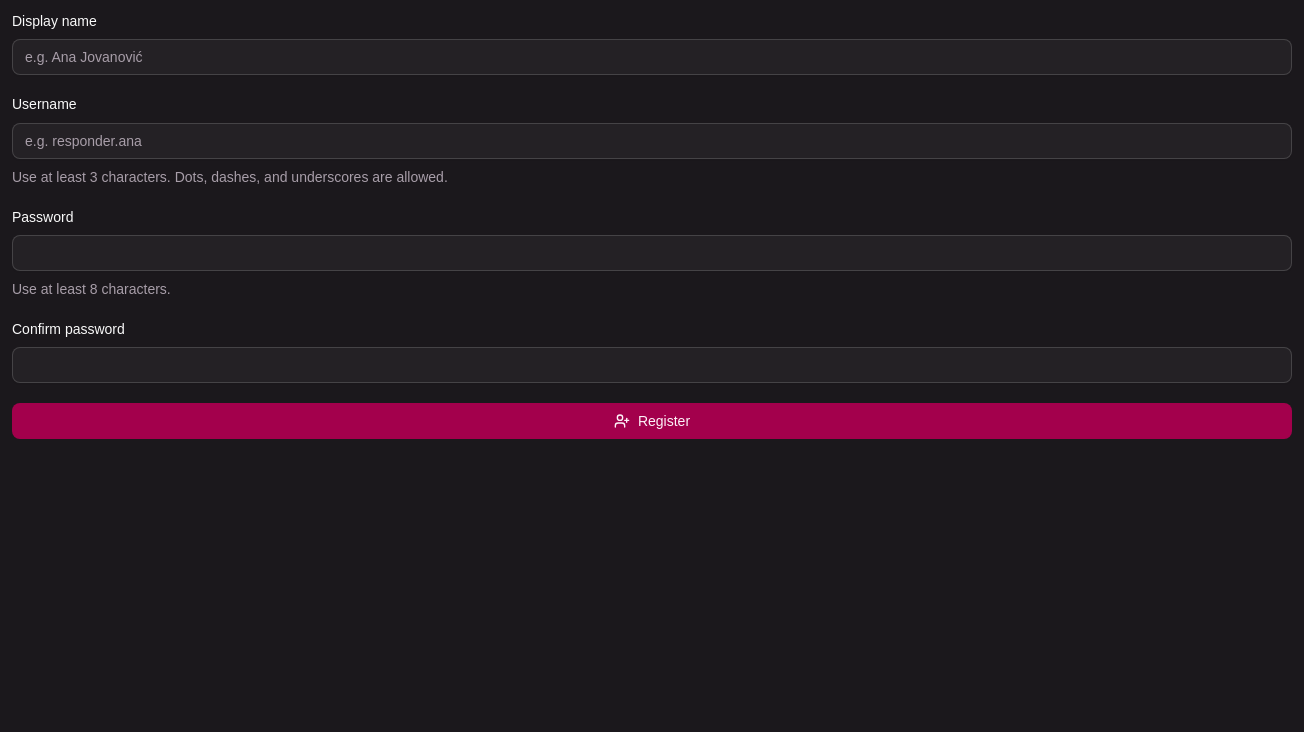
it: RegisterForm › maps server field errors and preserves entered values
Type " New Engineer " into the field labelled "Display name" at {"x": 652, "y": 57}, box [12, 39, 1292, 75]
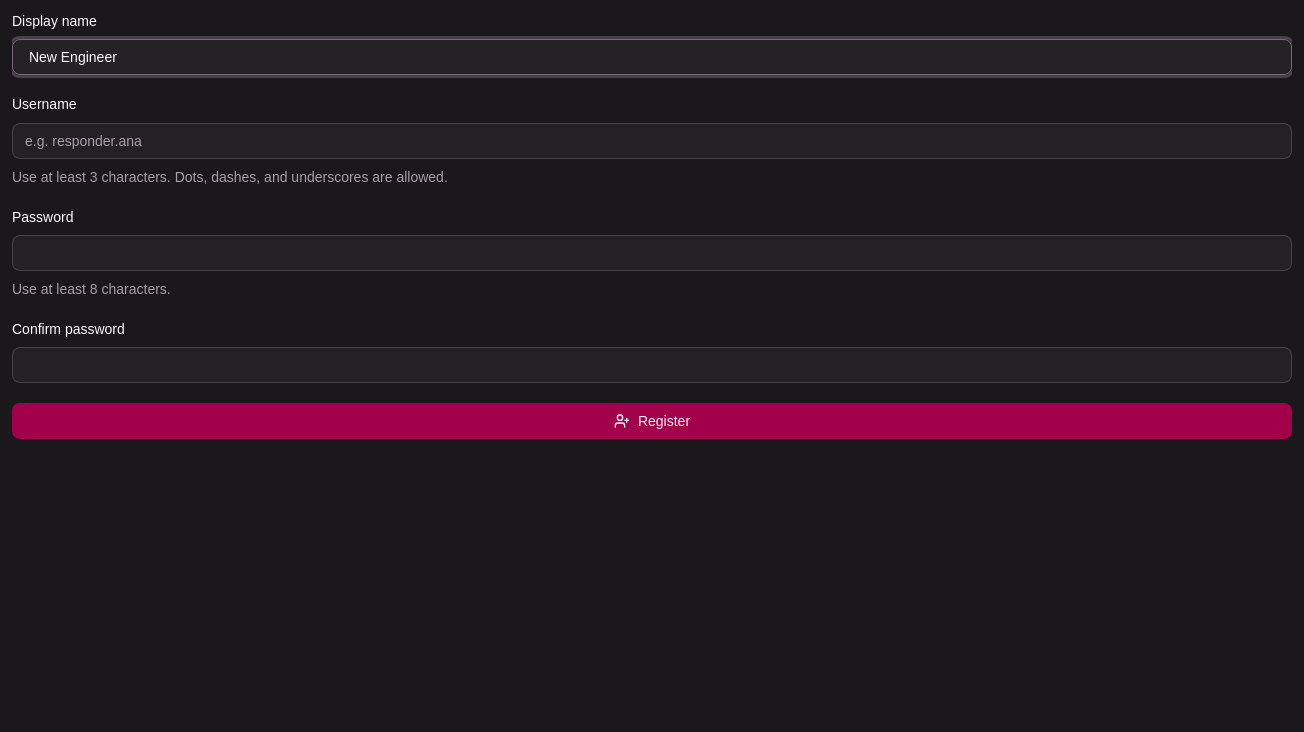
Type " New.Responder " into the field labelled "Username" at {"x": 652, "y": 140}, box [12, 122, 1292, 158]
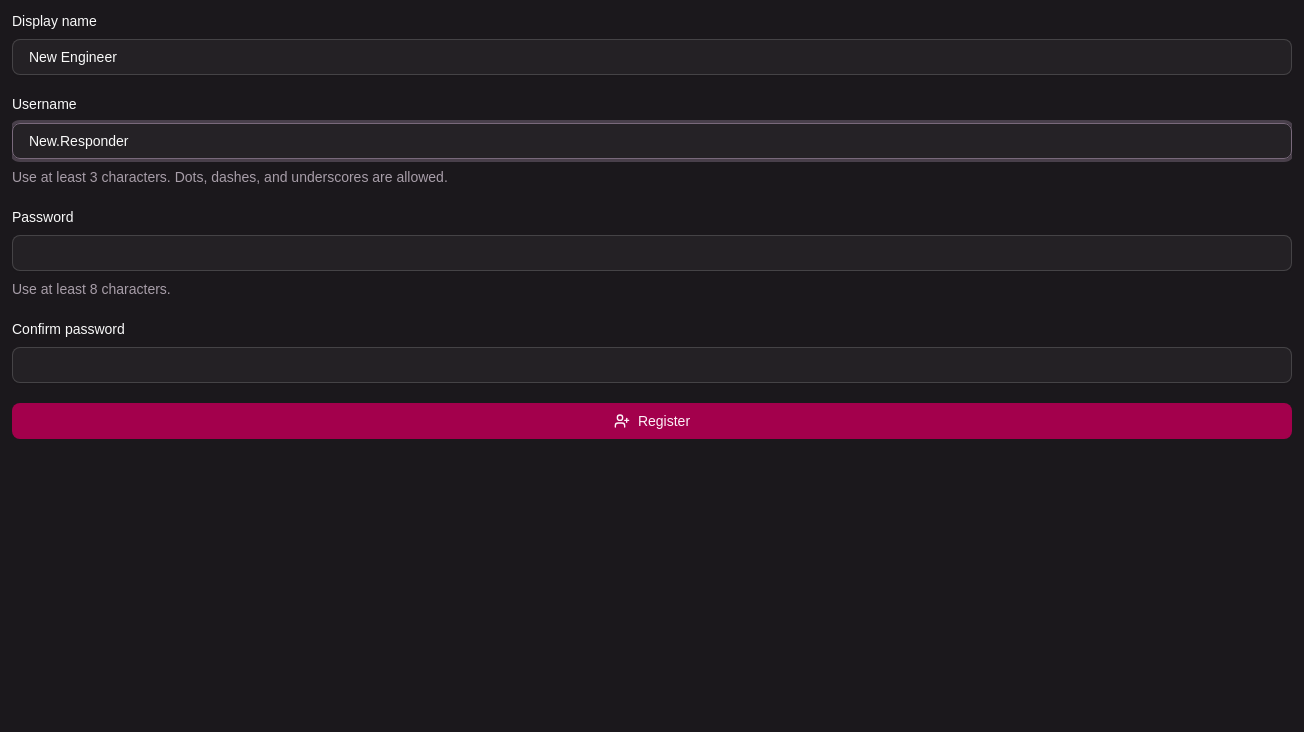
Type "strong-password" into the password field labelled "Password" at {"x": 652, "y": 253}, box [12, 235, 1292, 271]
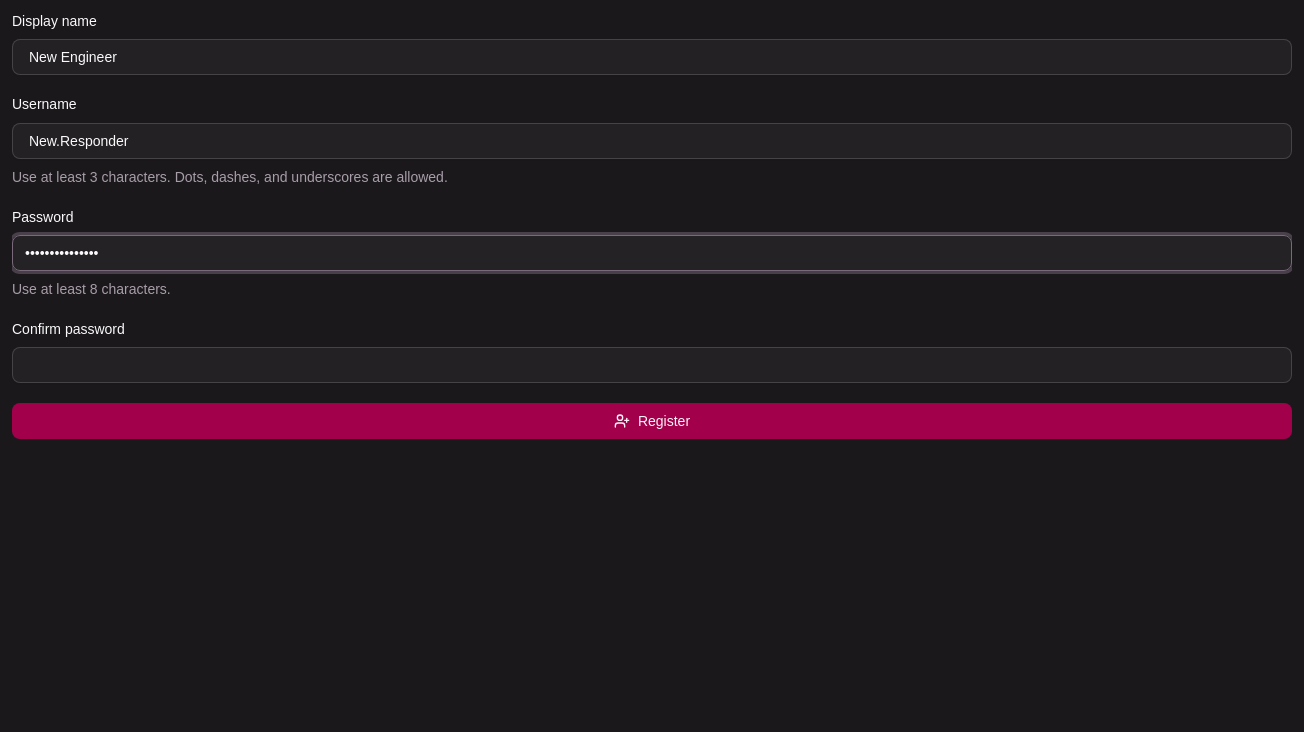
Type "strong-password" into the password field labelled "Confirm password" at {"x": 652, "y": 365}, box [12, 347, 1292, 383]
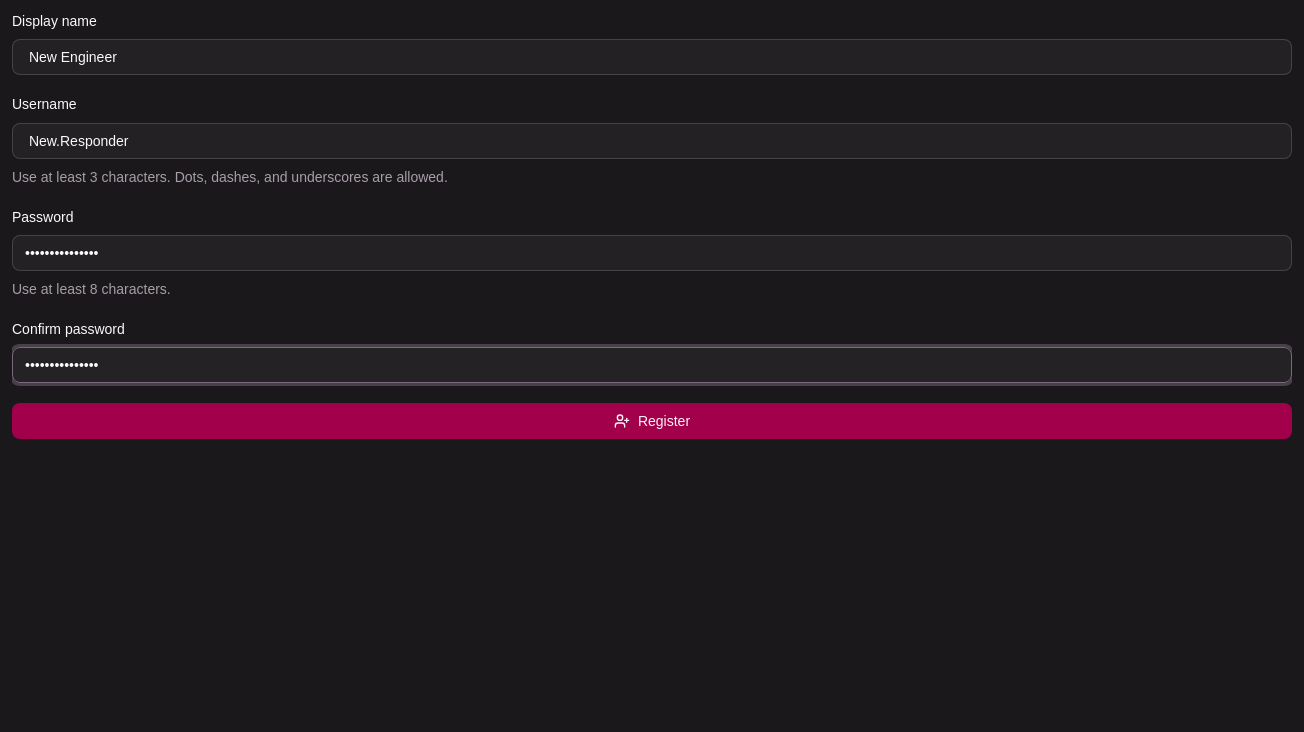
Click the button "Register" at {"x": 652, "y": 421}, box [12, 403, 1292, 439]
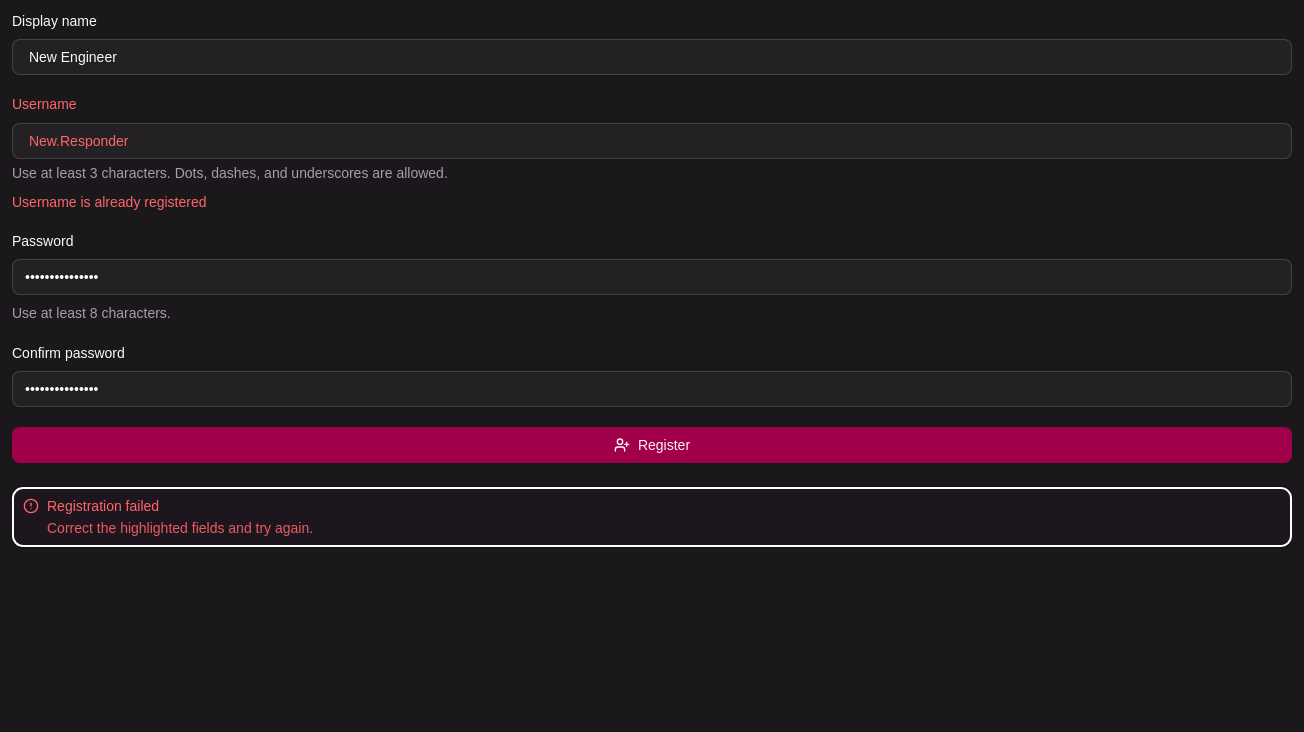
Expected: the text "Username is already registered" is shown, [12, 194, 206, 210]
